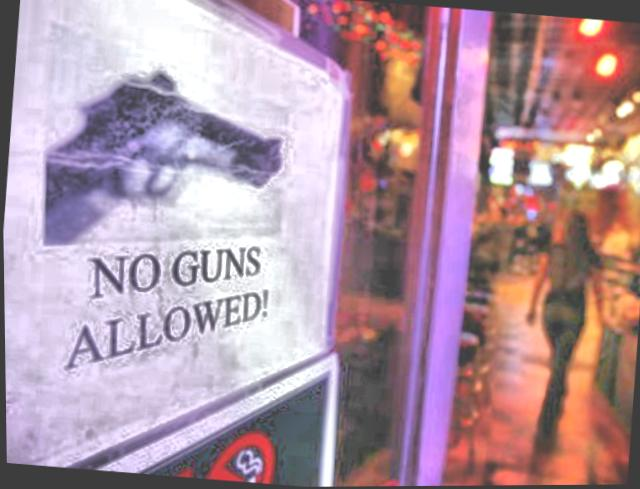pistol: (34, 57, 285, 236)
